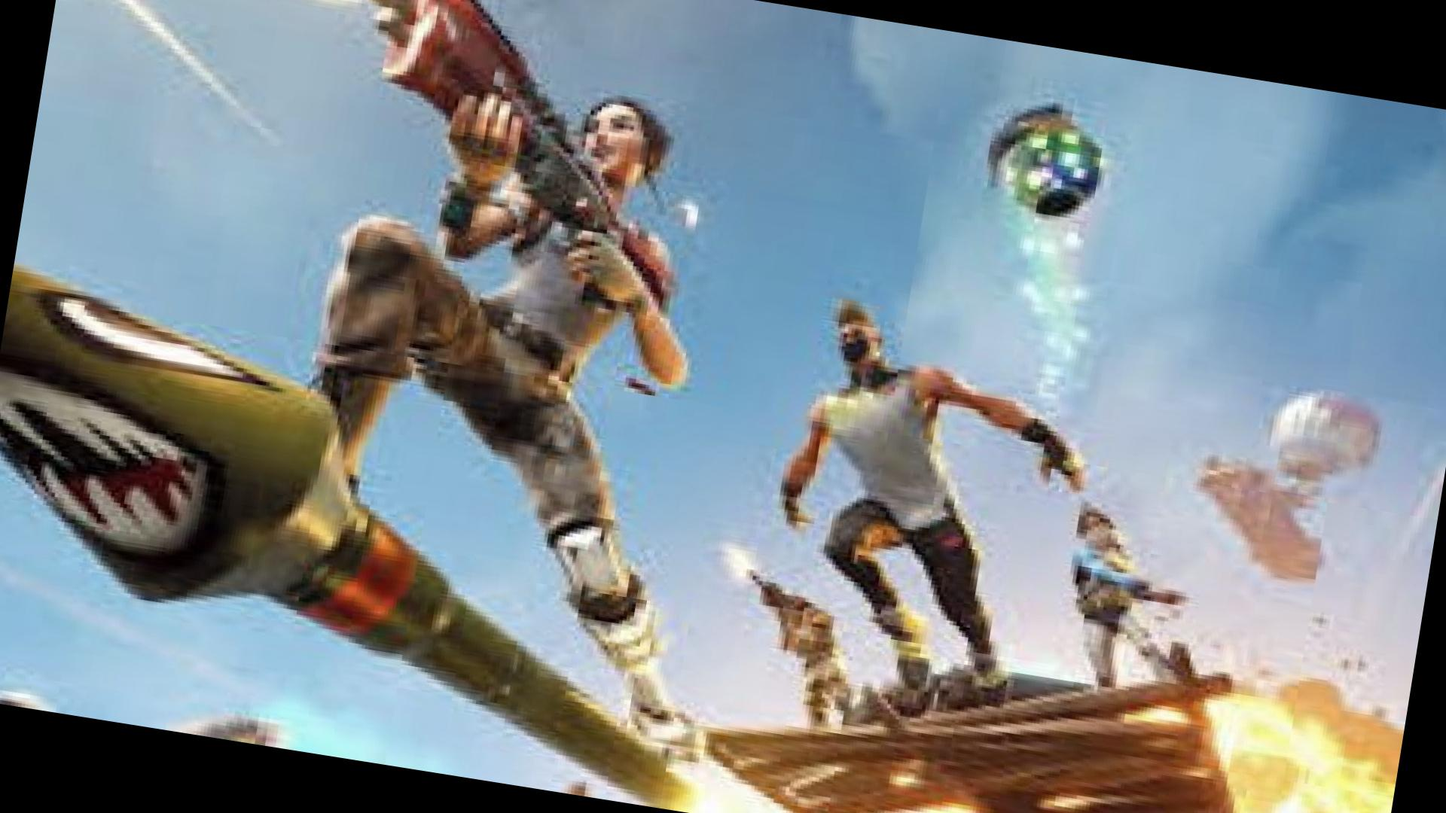player: (243, 0, 741, 616), (696, 268, 1074, 583), (1036, 498, 1205, 696), (690, 580, 867, 725)
